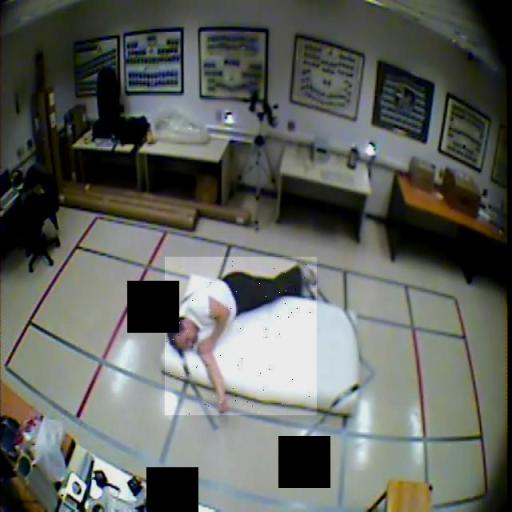Fall: (166, 257, 318, 415)
